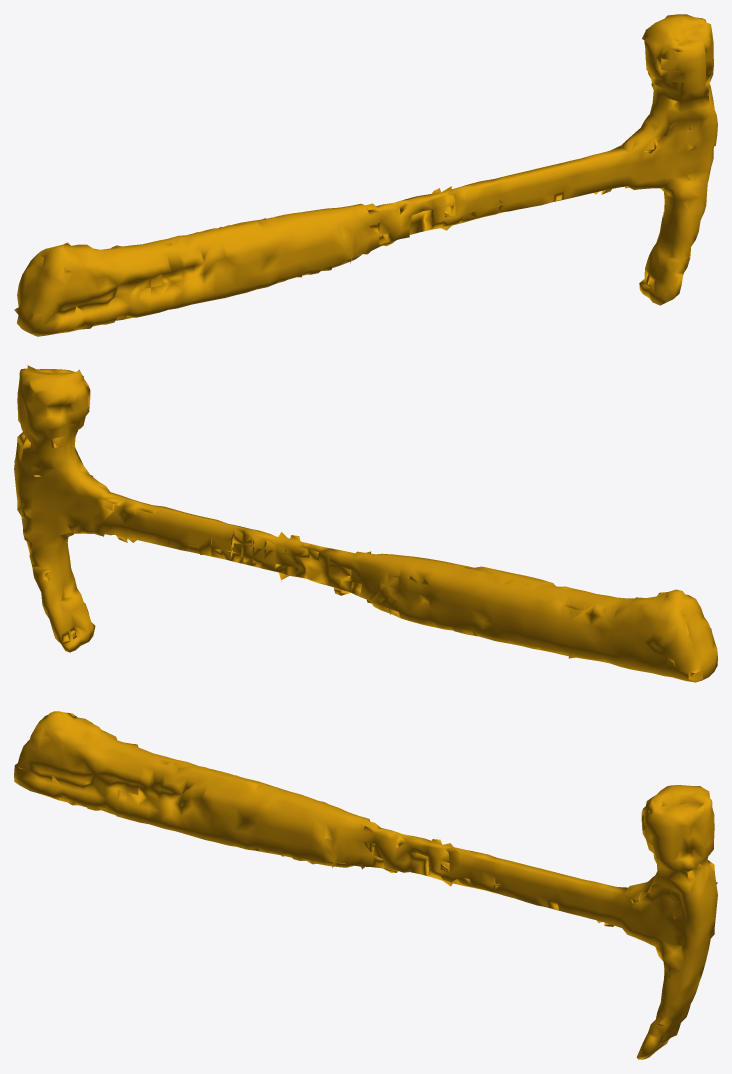
Rendered from model_origin.obj.
The picture shows the model from 3 angles, top to bottom: view 1: azimuth 30°, elevation 25°; view 2: azimuth 150°, elevation 25°; view 3: azimuth 330°, elevation 25°; orthographic projection.
Bounding box in the file's own units: 1 × 0.3727 × 0.092.
